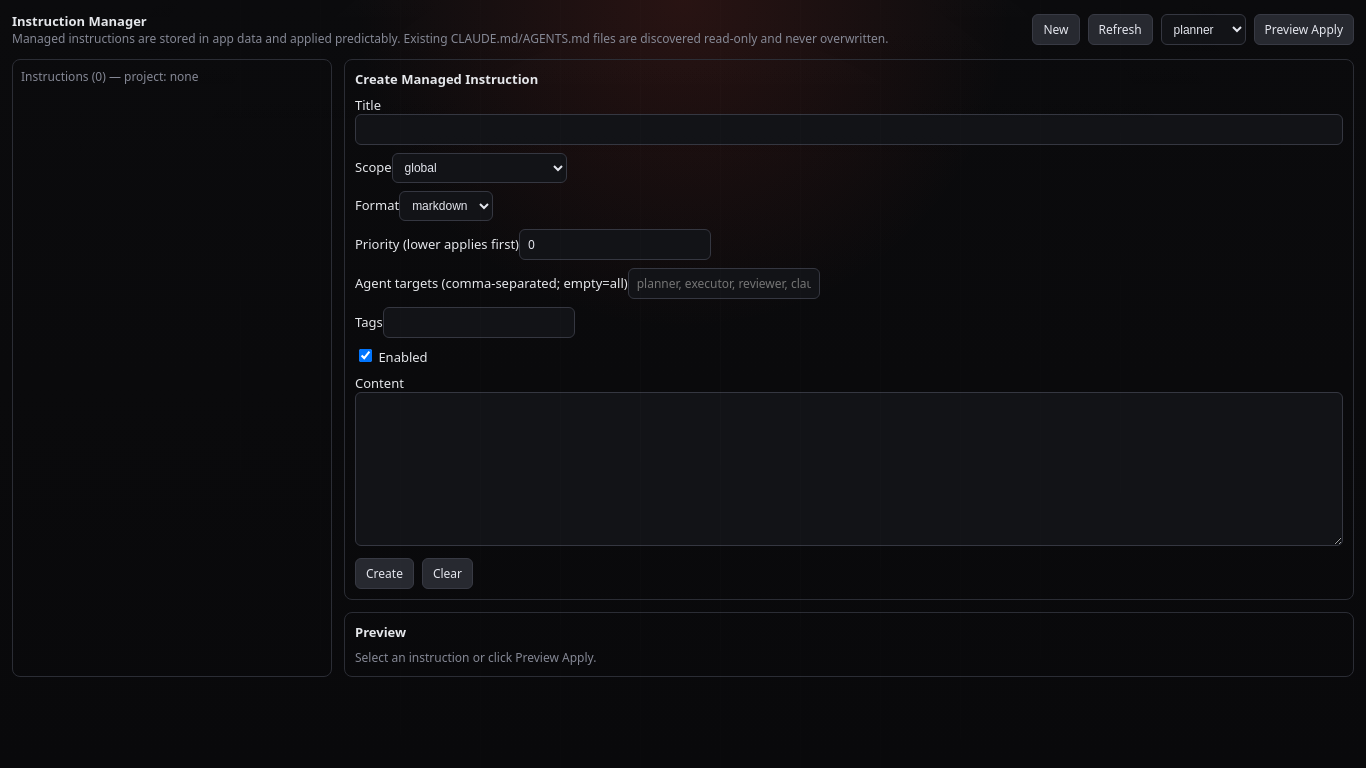
Test: InstructionManager › creates a managed instruction
The image size is (1366, 768).
Expected: the text "Instructions (0) — project: none" is shown, [21,68,198,85]
Step 1. Type "Smoke" into the field labelled "Title" → (849, 130), box [355,114,1343,145]
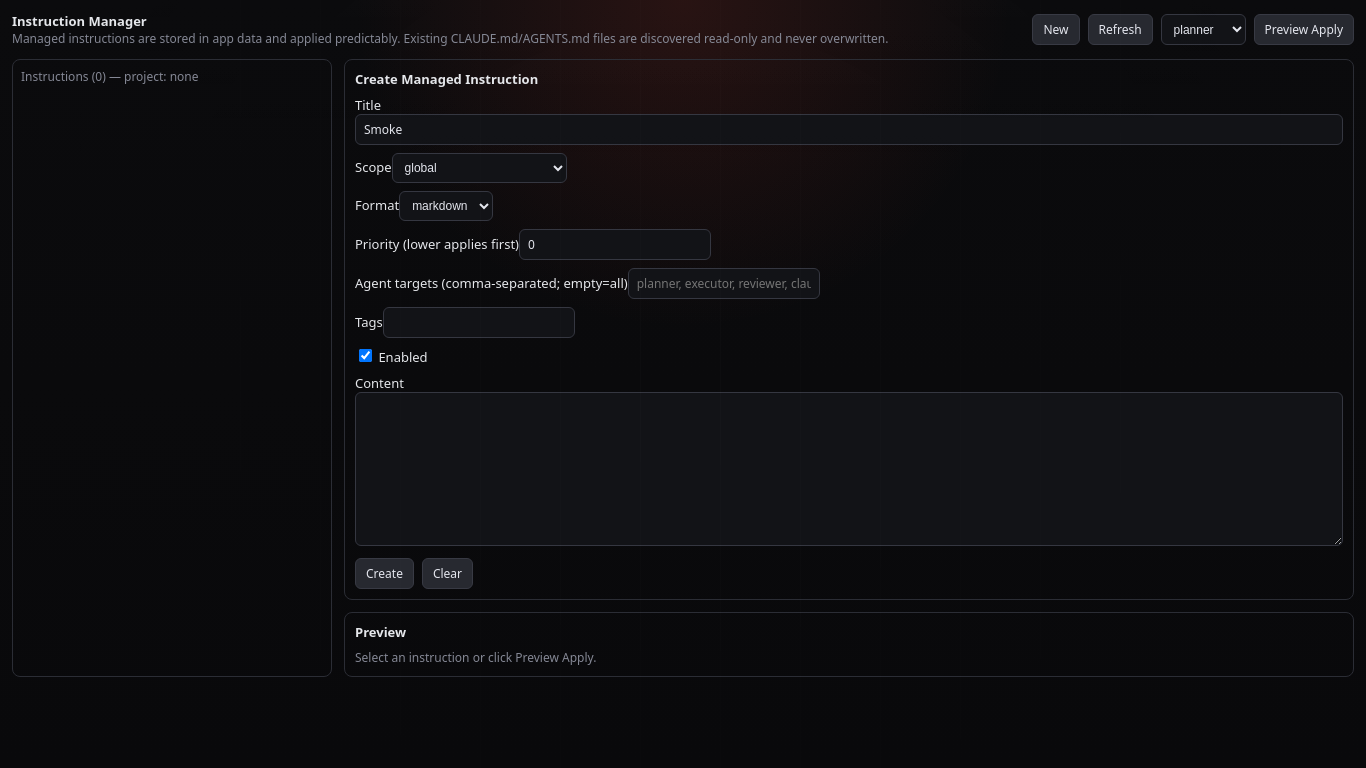
Step 2. Type "body" into the text box labelled "Content" → (849, 469), box [355,392,1343,546]
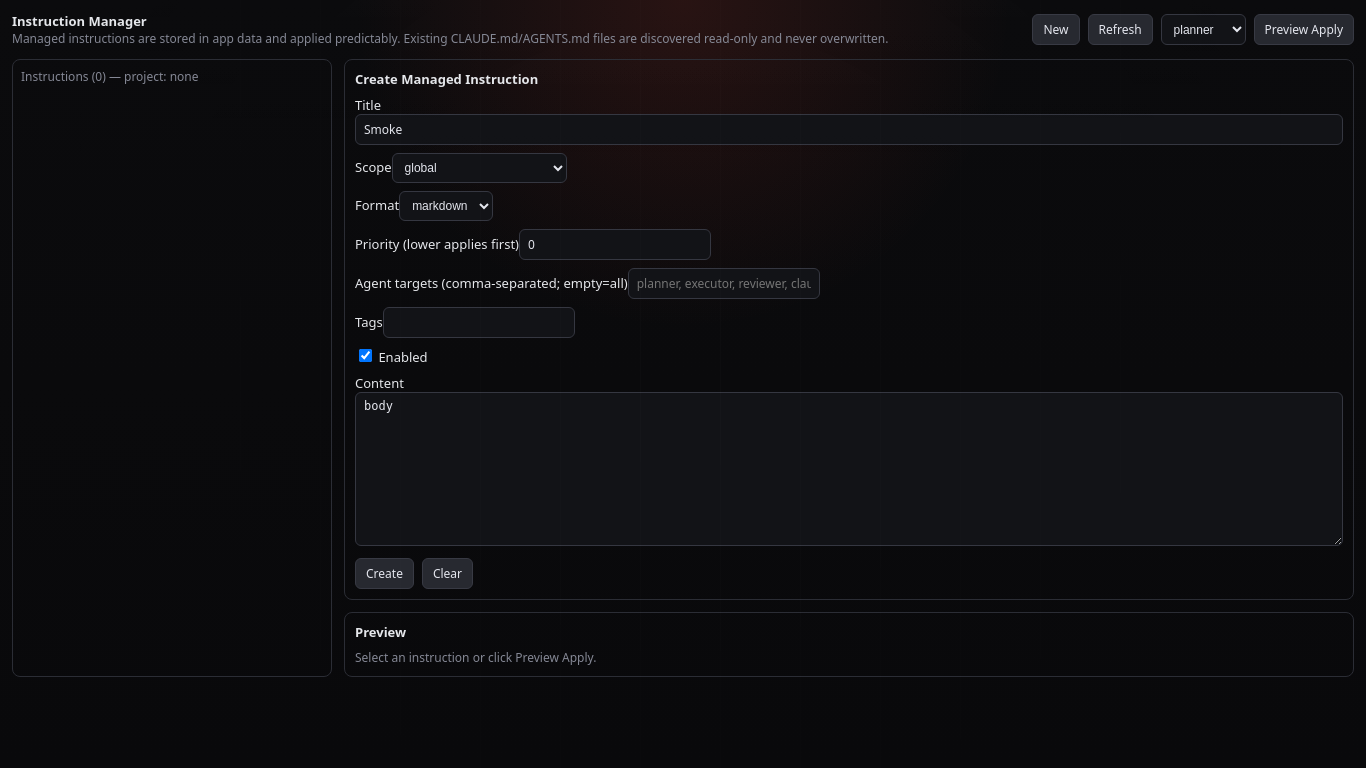
Step 3. Replace the text in the number field labelled "Priority (lower applies first)" with "5" → (615, 244), box [519,229,711,260]
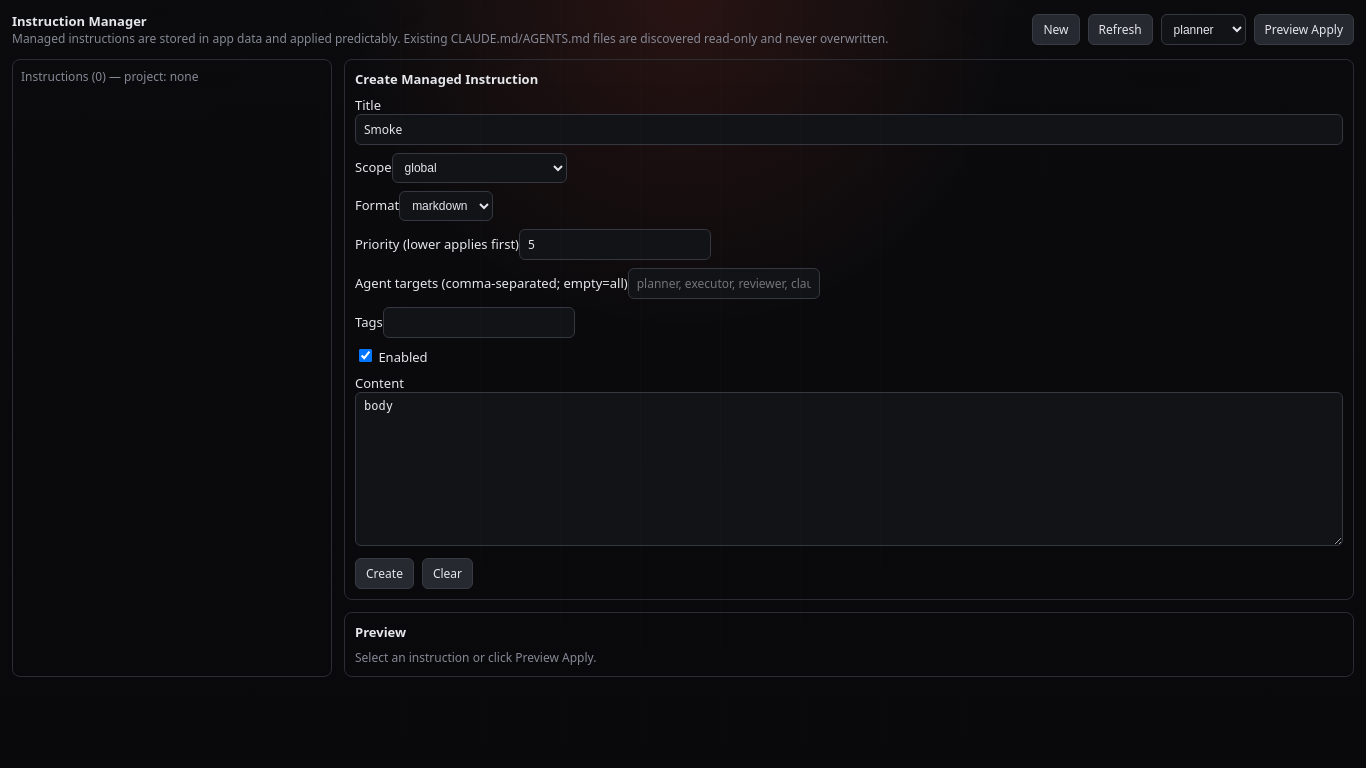
Step 4. Type "planner, executor" into the field labelled "Agent targets (comma-separated; empty=all)" → (724, 284), box [628,268,820,299]
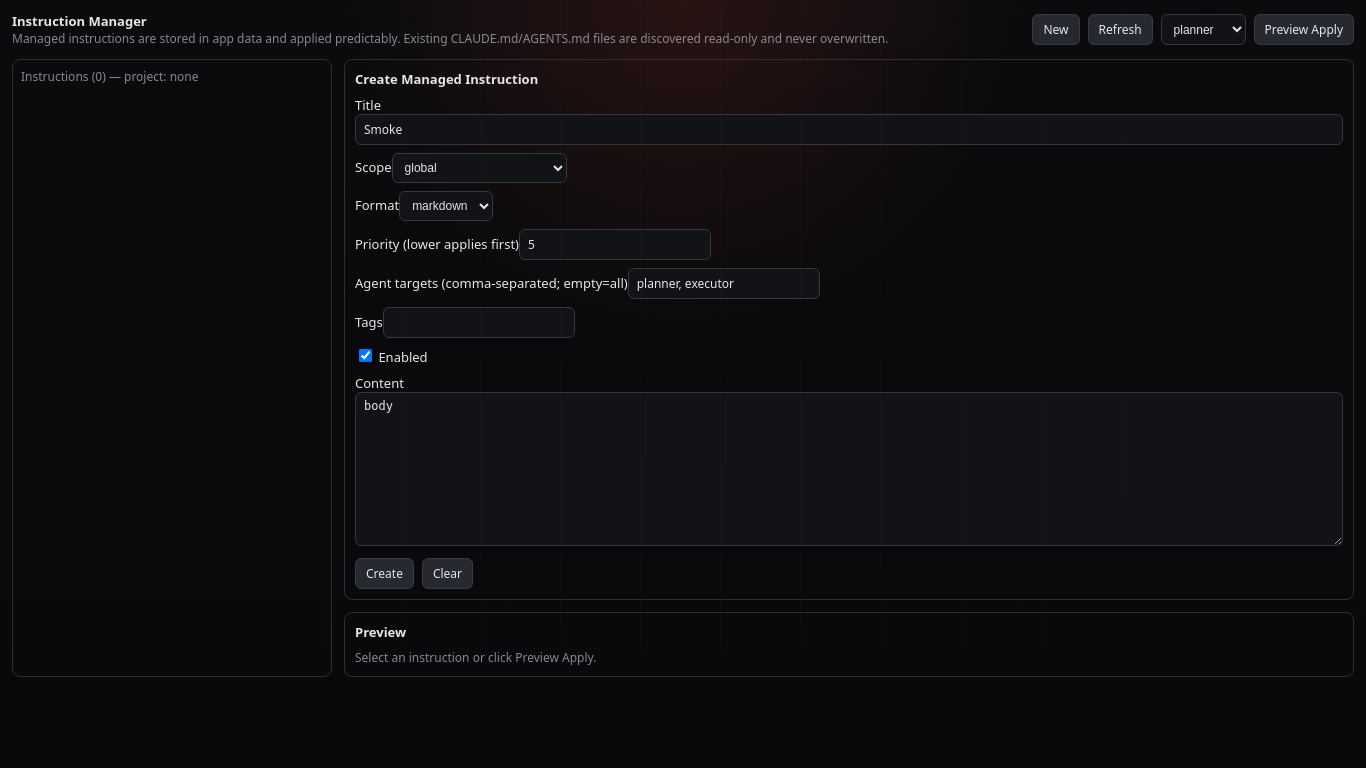
Step 5. Type "a, b" into the field labelled "Tags" → (479, 322), box [383,307,575,338]
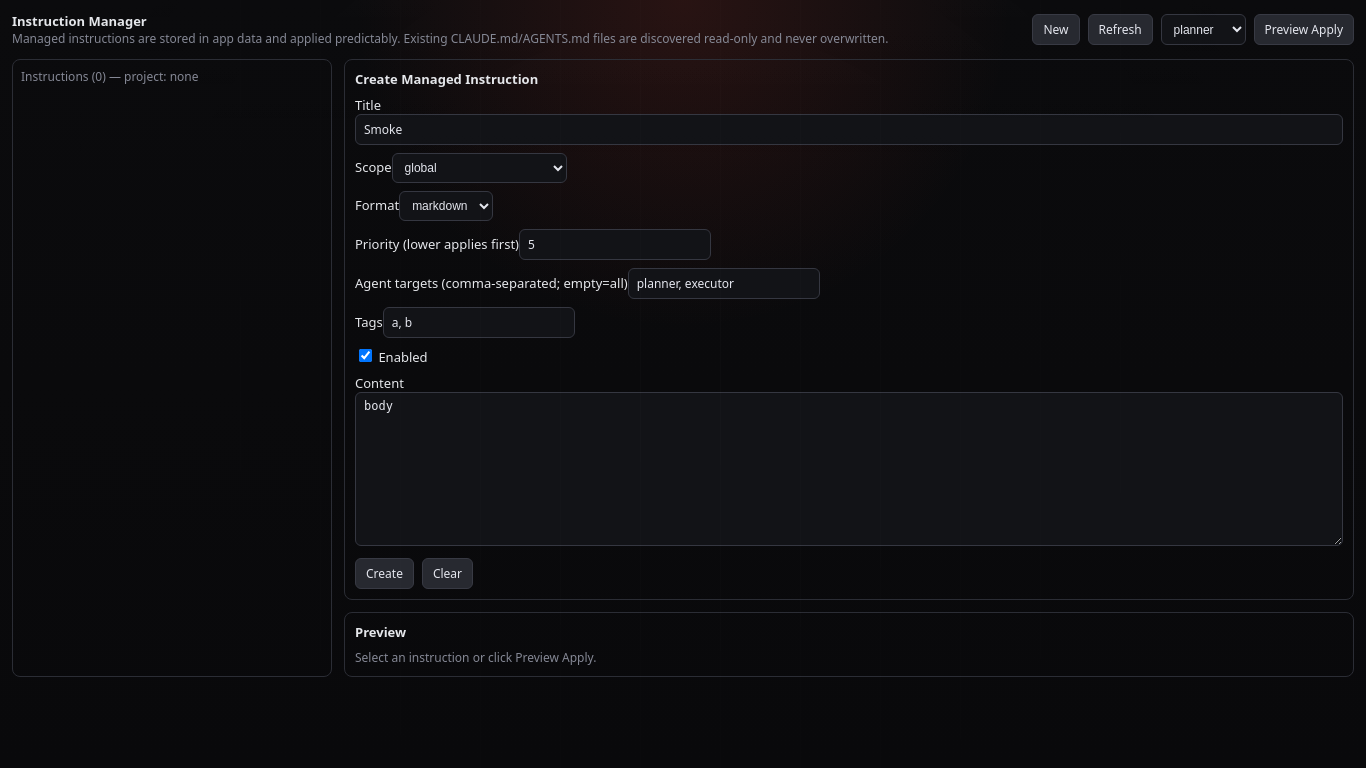
Step 6. Click the button "Create" → (384, 574), box [355,558,414,589]
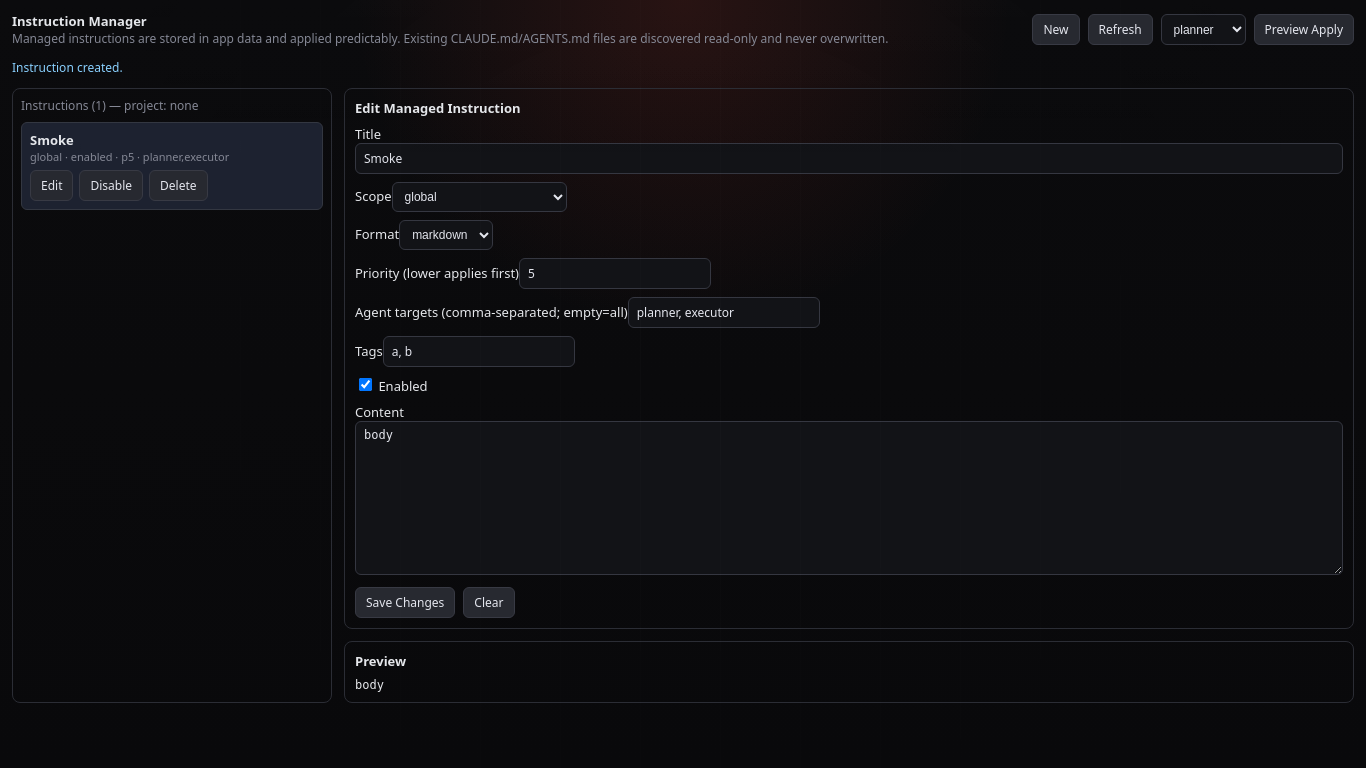
Now the text "Instruction created." is shown, box [12,59,123,76]
Now the text "Smoke" is shown, box [30,131,74,149]
Now the text "global · enabled · p5 · planner,executor" is shown, box [30,149,229,164]
